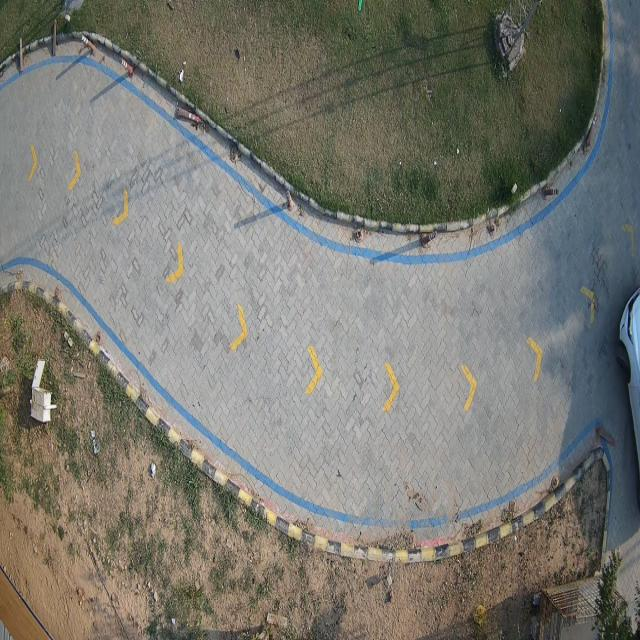car: (614, 293, 639, 505)
